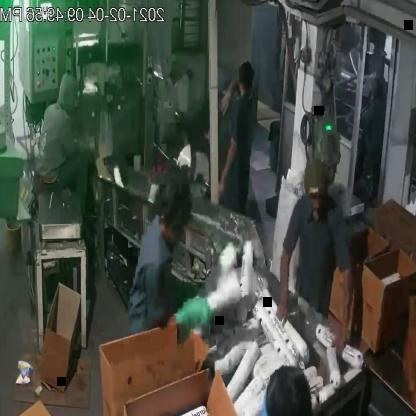glove: (169, 282, 216, 343)
no_glove: (334, 244, 361, 362), (274, 231, 298, 338), (212, 127, 240, 212), (216, 66, 246, 121)
